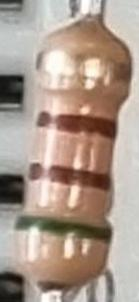Brown: (36, 109, 118, 138), (28, 163, 110, 189)
Green: (16, 212, 111, 243)
Side-Silver: (36, 51, 131, 85)
